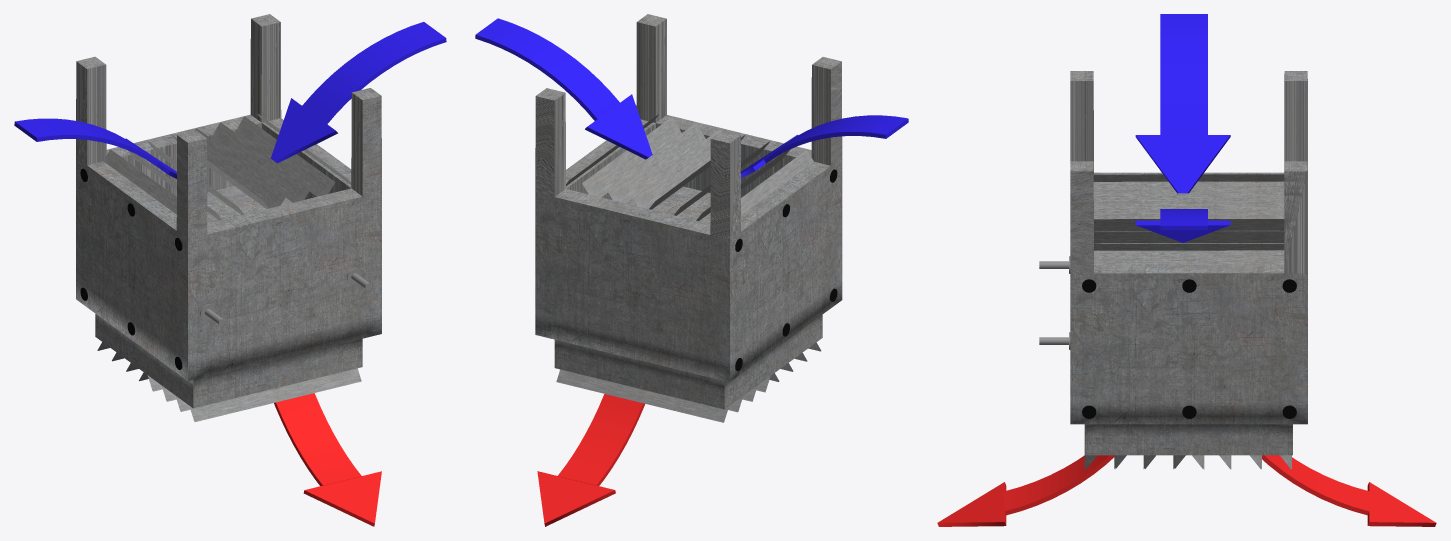
Rendered from 3_air_warming.FBX.
3 views of the same model, side by side, from view 1: azimuth 30°, elevation 25°; view 2: azimuth 150°, elevation 25°; view 3: azimuth 270°, elevation 25° (orthographic). The views are drawn at different scales.
Visible parts, largest first — view 1: Box001, Plane012, Box005, Box007, Plane001, Box006, Plane023; view 2: Box001, Plane012, Box005, Box002, Plane021, Box006, Plane023; view 3: Box001, Plane023, Box006, Box007, Box002, Box005, Plane012.
Boxes of the visible parts, x1=… form: Box001: x1=76, y1=14, x2=381, y2=408; Plane012: x1=103, y1=114, x2=351, y2=220; Box005: x1=270, y1=22, x2=446, y2=163; Box007: x1=274, y1=393, x2=381, y2=526; Plane001: x1=190, y1=368, x2=361, y2=421; Box006: x1=14, y1=118, x2=176, y2=178; Plane023: x1=110, y1=114, x2=351, y2=219; Box001: x1=535, y1=14, x2=842, y2=409; Plane012: x1=566, y1=115, x2=813, y2=221; Box005: x1=475, y1=18, x2=652, y2=159; Box002: x1=537, y1=394, x2=644, y2=526; Plane021: x1=556, y1=369, x2=769, y2=422; Box006: x1=741, y1=115, x2=908, y2=177; Plane023: x1=566, y1=114, x2=806, y2=220; Box001: x1=1070, y1=71, x2=1307, y2=455; Plane023: x1=1093, y1=174, x2=1284, y2=265; Box006: x1=1135, y1=14, x2=1230, y2=193; Box007: x1=937, y1=455, x2=1114, y2=526; Box002: x1=1262, y1=455, x2=1436, y2=526; Box005: x1=1135, y1=209, x2=1230, y2=242; Plane012: x1=1094, y1=174, x2=1283, y2=250.
Size of the model in its own units: 2112 by 1820 by 2099.
5 materials, 1 textured.
